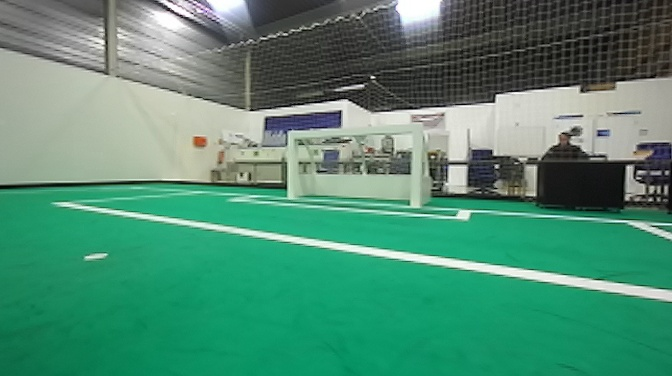goalpost: (407, 119, 428, 215), (283, 124, 299, 197)
